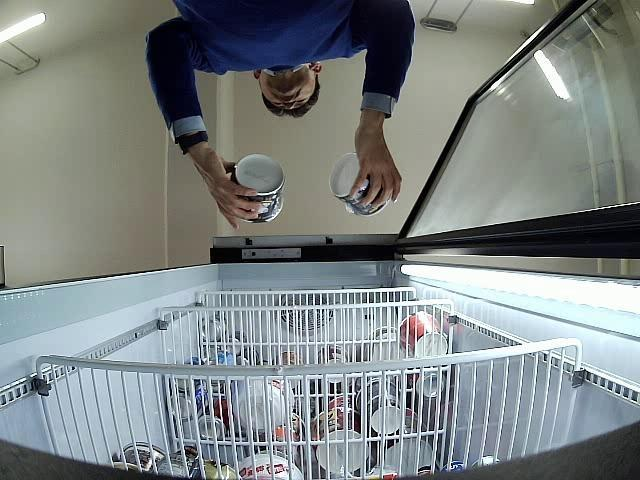07_buldak_L: (329, 154, 391, 216), (230, 154, 284, 222)
